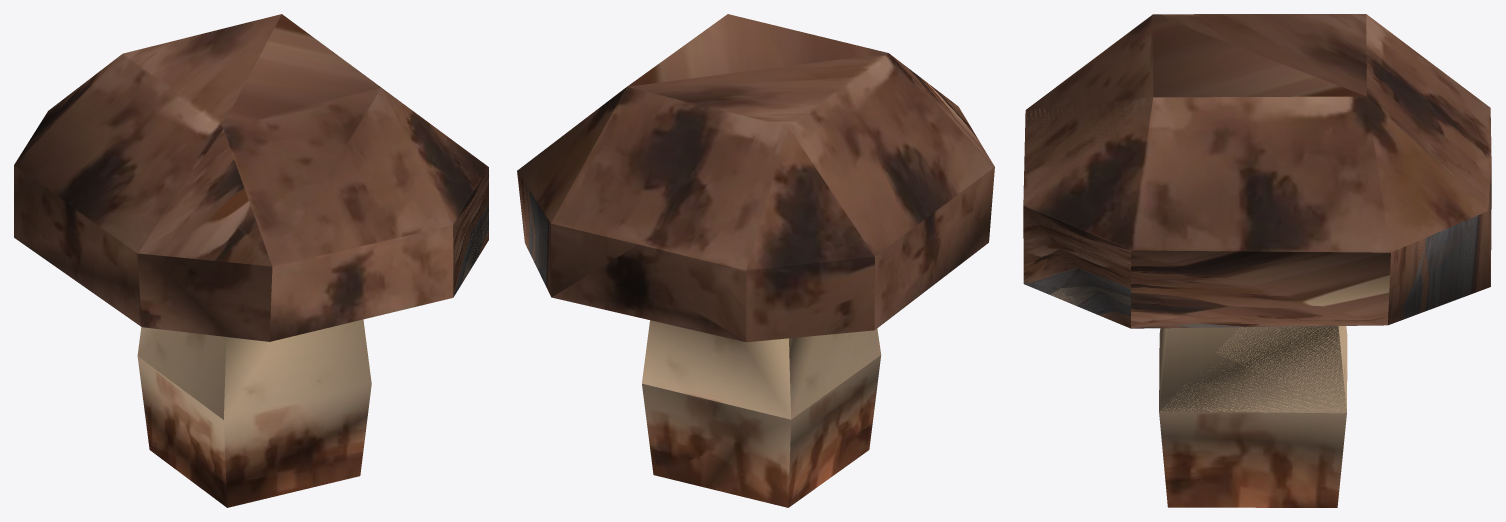
The model's file is Mushroom.fbx.
The picture shows the model from 3 angles, left to right: view 1: azimuth 30°, elevation 25°; view 2: azimuth 150°, elevation 25°; view 3: azimuth 270°, elevation 25°; orthographic projection. The views are drawn at different scales.
Visible parts, largest first — view 1: geometry_0; view 2: geometry_0; view 3: geometry_0.
Part boxes in pixels (<box>): geometry_0: <box>14,14,488,507</box>; geometry_0: <box>517,14,994,507</box>; geometry_0: <box>1023,14,1491,507</box>.
Bounding box in the file's own units: 0.9282 × 0.9801 × 0.9937.
Materials: 1 (1 with a texture image).
